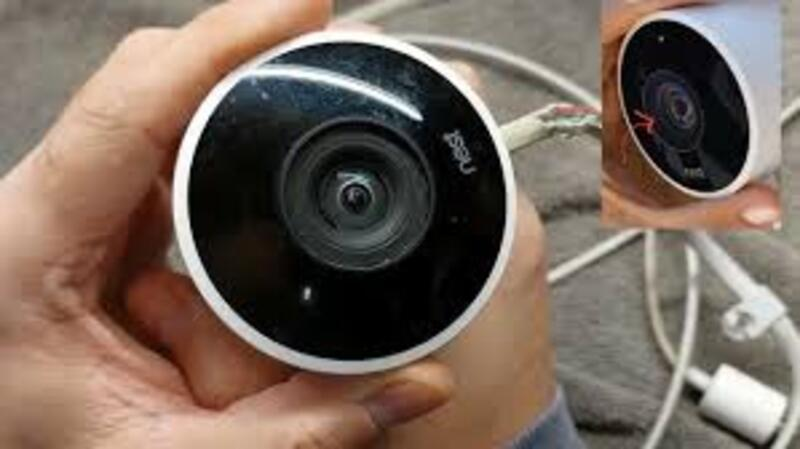nest: (176, 27, 512, 376)
